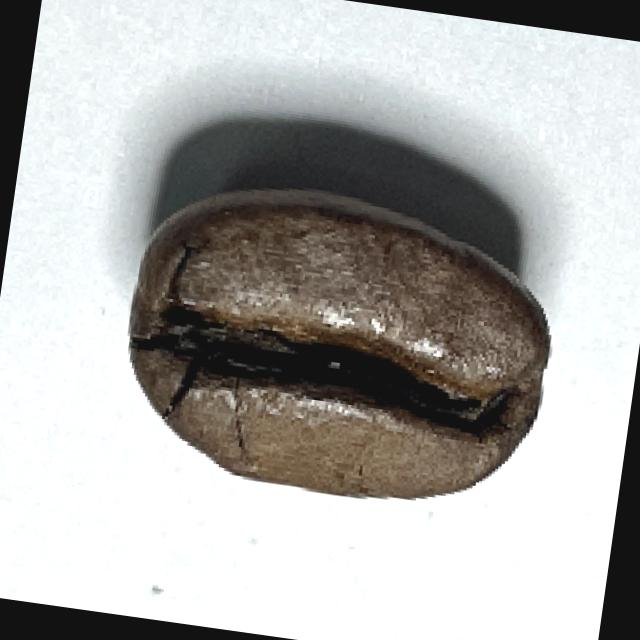bean: (104, 173, 569, 526)
